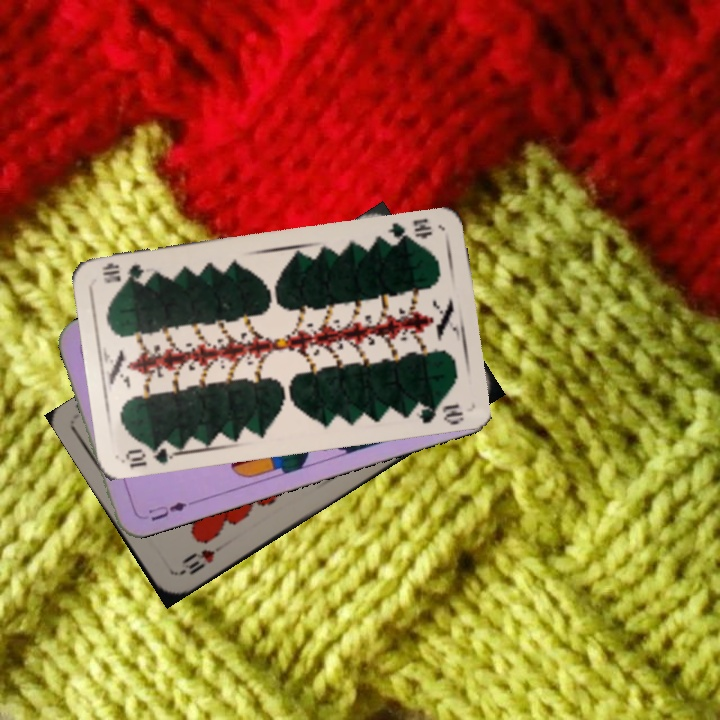EU: (144, 497, 189, 524)
G10: (121, 438, 179, 471), (384, 214, 435, 246)
H10: (175, 545, 218, 579)
